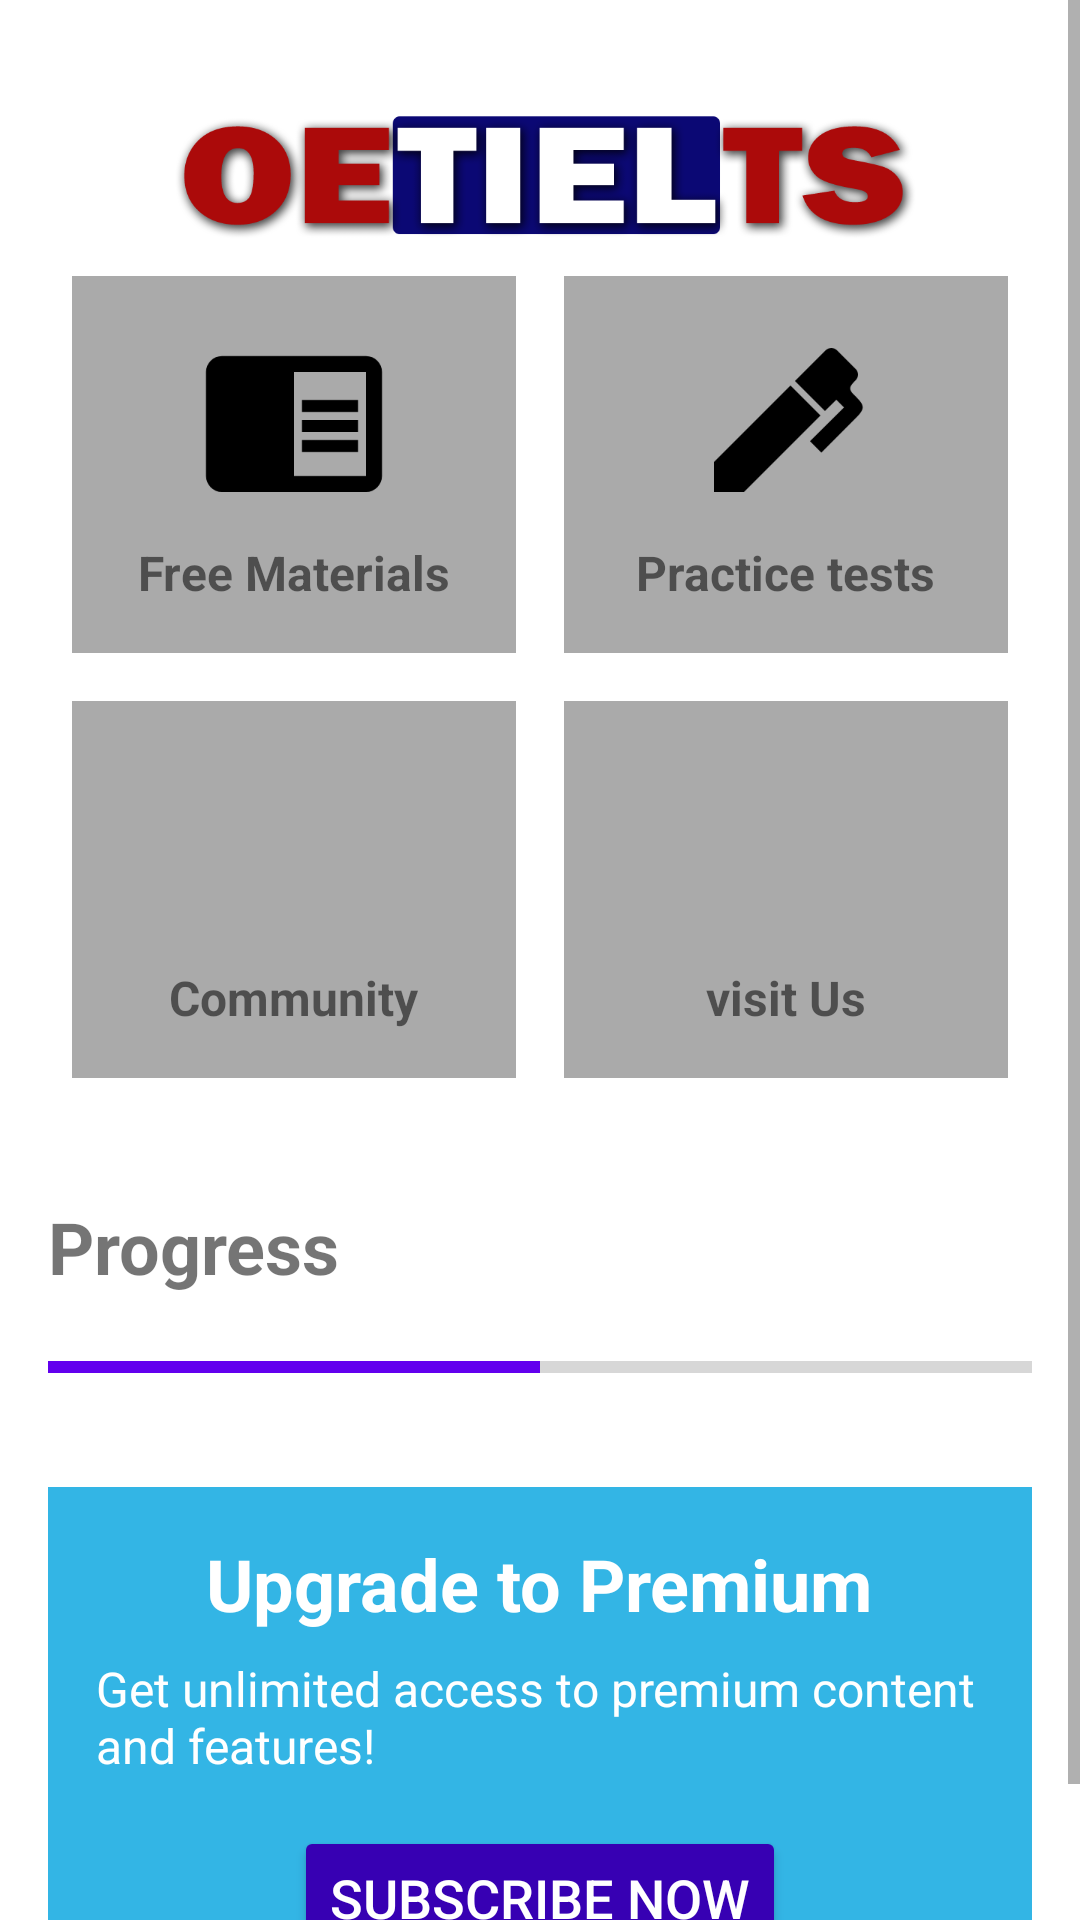

Icons on this 1080 × 1920 Android screen, each with its box as (x1, y1, x2, y2):
book: (205, 356, 383, 492)
pen: (714, 348, 863, 492)
